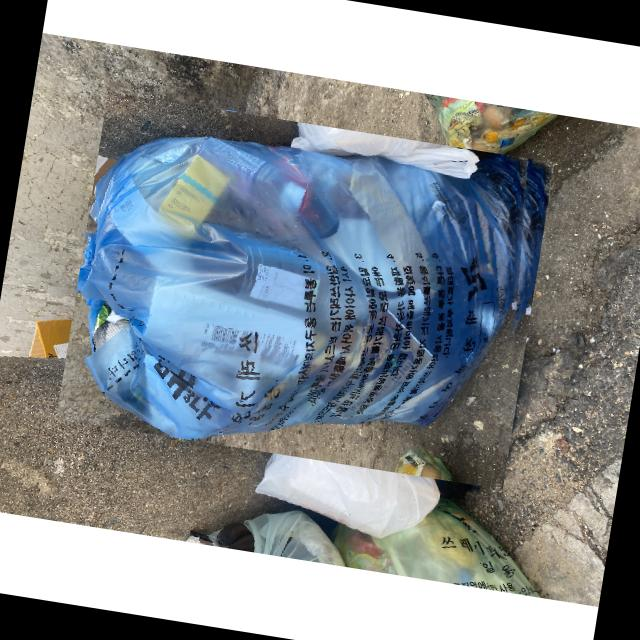other_trashbag: (76, 137, 527, 439)
